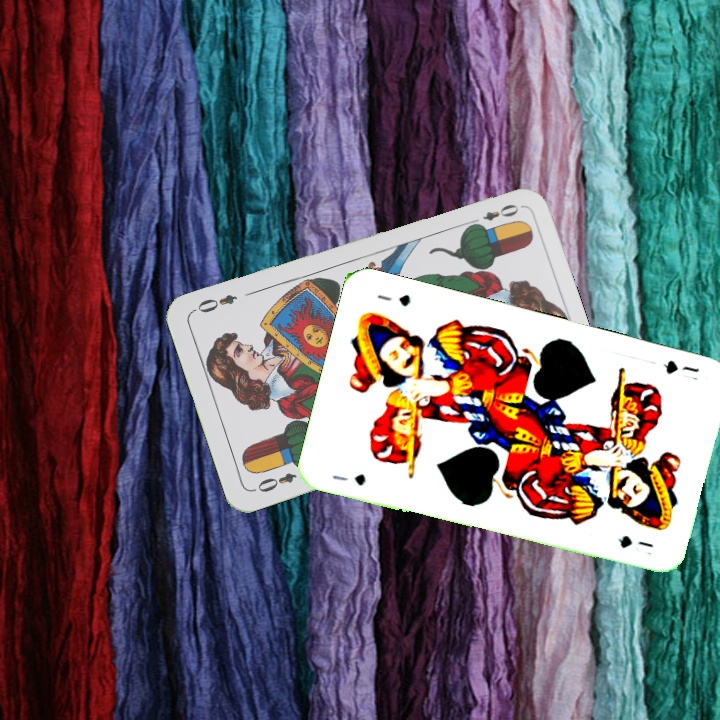EO: (465, 200, 521, 230), (253, 468, 299, 495)
GU: (659, 356, 702, 383), (328, 469, 368, 489)
